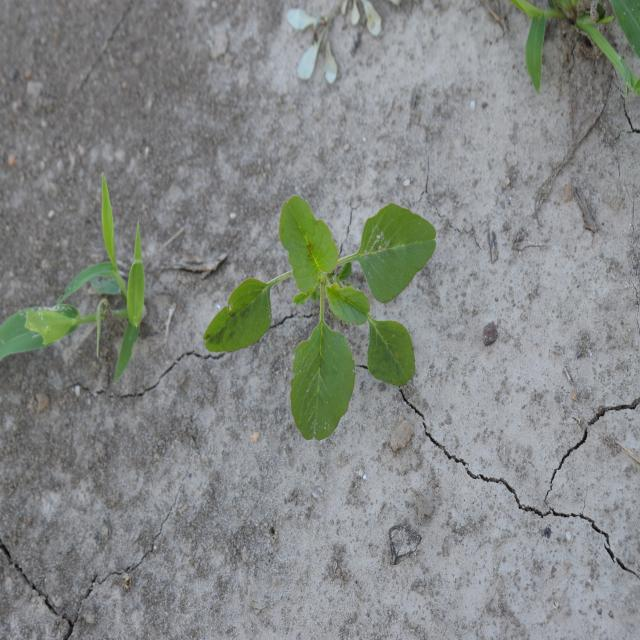Carpetweed: (286, 2, 385, 86)
PalmerAmaranth: (202, 192, 438, 444)
